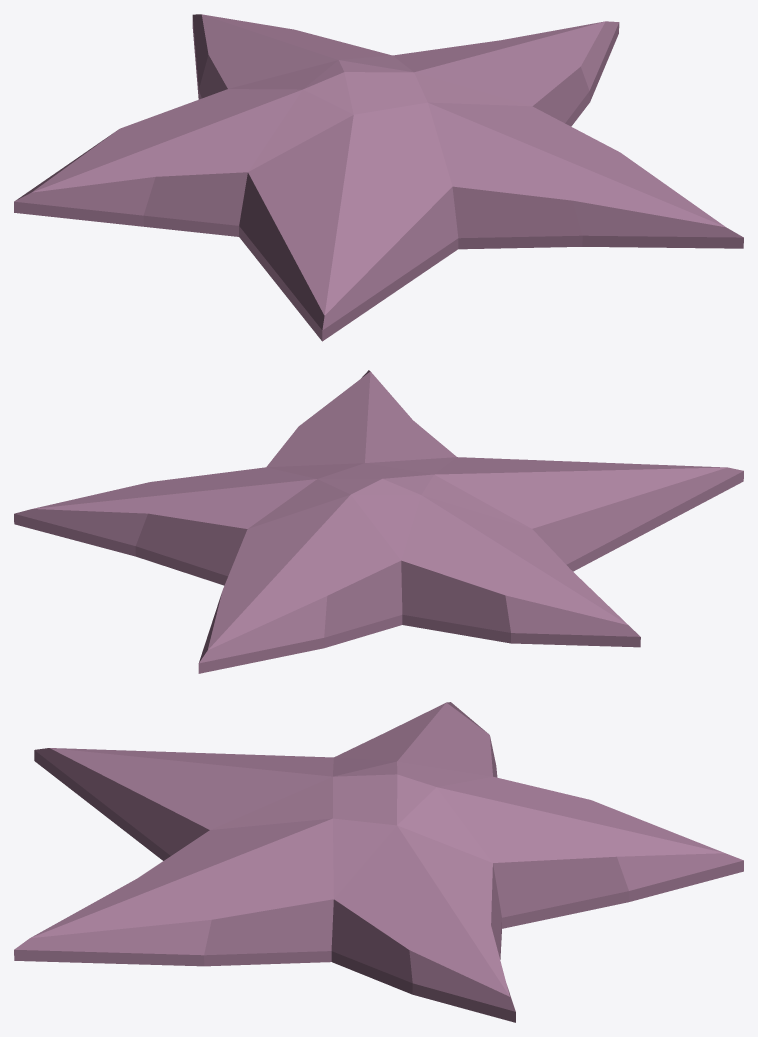
Rendered from starfish.fbx.
3 views of the same model, one above another, from view 1: azimuth 30°, elevation 25°; view 2: azimuth 150°, elevation 25°; view 3: azimuth 270°, elevation 25° (orthographic). The views are drawn at different scales.
Parts seen in each view (by area): view 1: Cylinder; view 2: Cylinder; view 3: Cylinder.
Part boxes in pixels (x1,y1,x2,y2): Cylinder: [14, 14, 743, 341]; Cylinder: [14, 370, 743, 673]; Cylinder: [14, 702, 743, 1022].
Bounding box in the file's own units: 81.83 × 13.2 × 81.48.
